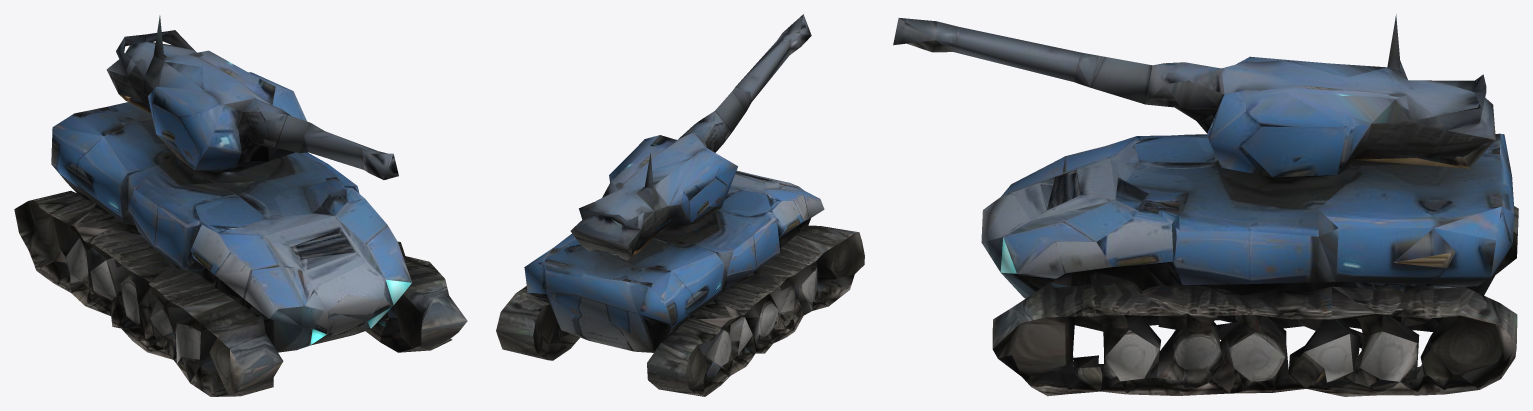
Rendered from unit_mortar.glb.
3 views of the same model, side by side, from view 1: azimuth 30°, elevation 25°; view 2: azimuth 150°, elevation 25°; view 3: azimuth 270°, elevation 25° (orthographic). The views are drawn at different scales.
Visible parts, largest first — view 1: unit_mortar; view 2: unit_mortar; view 3: unit_mortar.
Boxes of the visible parts, left/top/right/bottom form: unit_mortar: left=14, top=15, right=467, bottom=396; unit_mortar: left=496, top=14, right=864, bottom=396; unit_mortar: left=893, top=14, right=1518, bottom=396.
Size of the model in its own units: 0.9341 by 1 by 1.8.
Materials: 1 (1 with a texture image).
